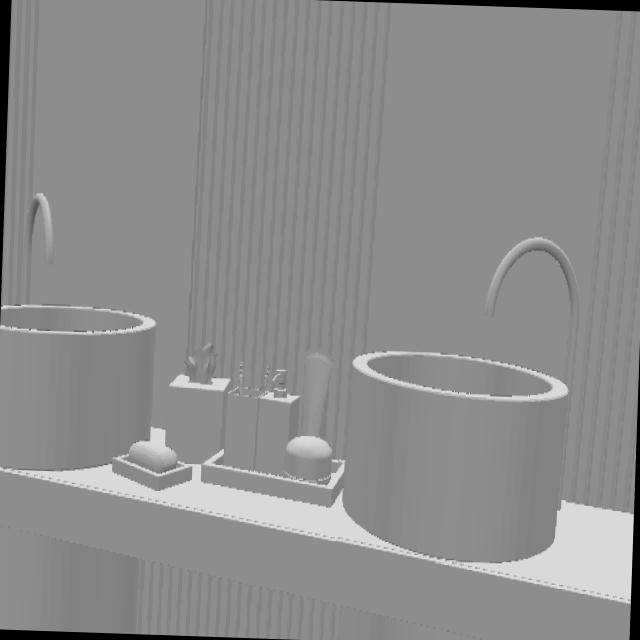washbasin: (337, 351, 569, 565), (0, 303, 157, 471)
